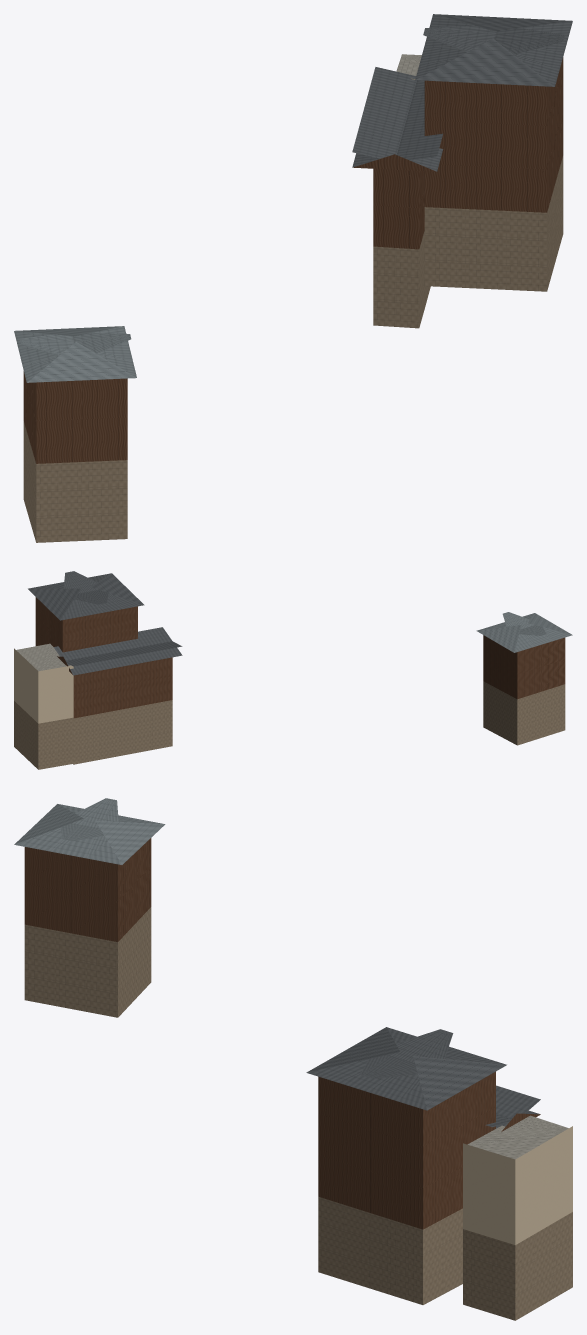
Rendered from bld_c2_16_462.gltf.
3 views of the same model, one above another, from view 1: azimuth 30°, elevation 25°; view 2: azimuth 150°, elevation 25°; view 3: azimuth 270°, elevation 25° (orthographic). The views are drawn at different scales.
Visible parts, largest first — view 1: bld_c2_16_462; view 2: bld_c2_16_462; view 3: bld_c2_16_462.
Boxes of the visible parts, left/top/right/bottom form: bld_c2_16_462: left=14, top=14, right=572, bottom=542; bld_c2_16_462: left=14, top=571, right=572, bottom=769; bld_c2_16_462: left=14, top=798, right=572, bottom=1320.
Size of the model in its own units: 49.96 by 16 by 34.16.
8 materials, 8 textured.
